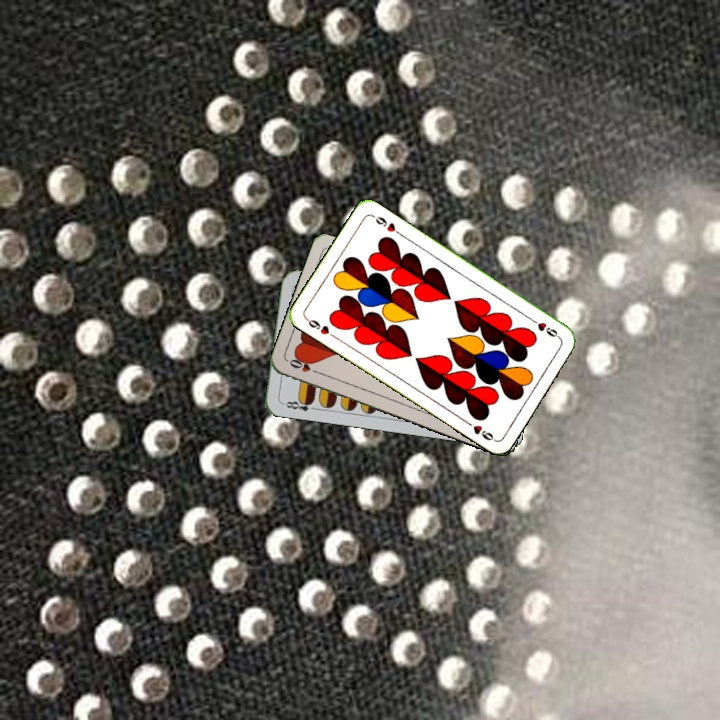E8: (279, 395, 319, 414)
H9: (526, 314, 562, 341), (302, 314, 338, 340)
HO: (285, 355, 324, 377)
